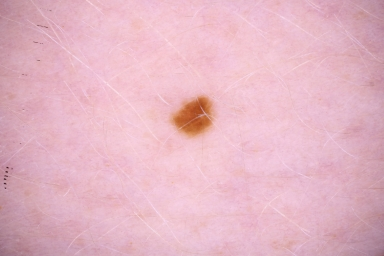nevus: (174, 95, 213, 137)
